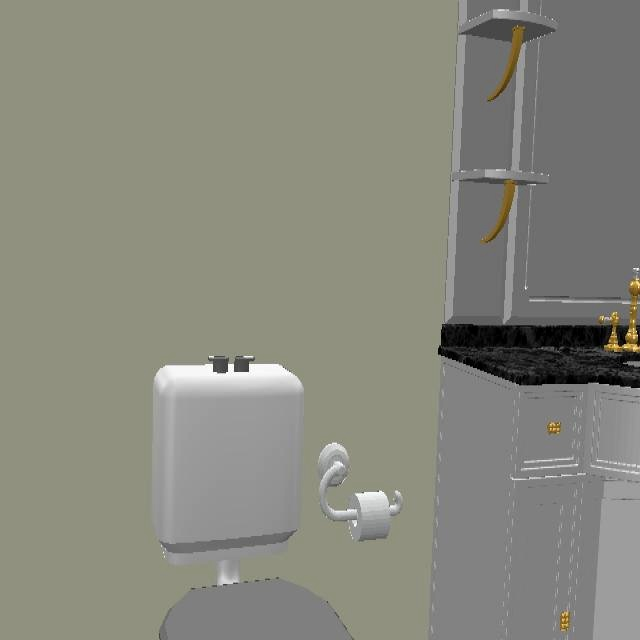cabinet: (436, 357, 640, 640)
toilet: (150, 356, 339, 640)
